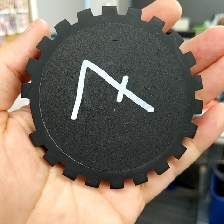gear: (19, 3, 205, 191)
missing: (20, 83, 47, 148)
